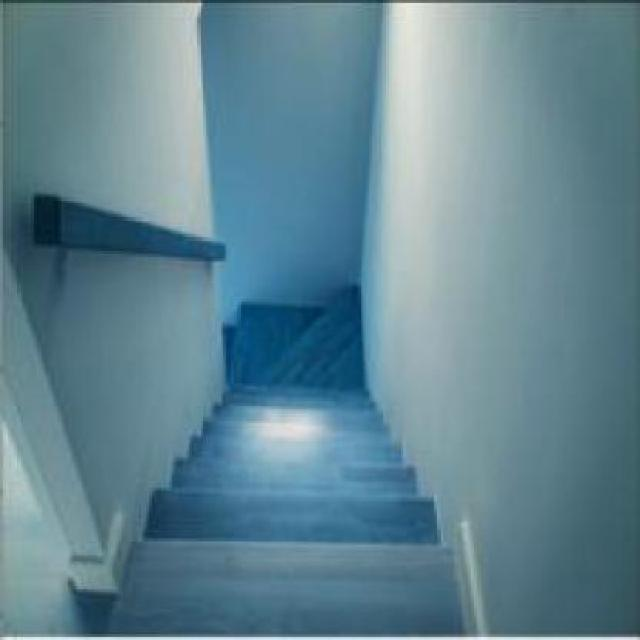stair: (138, 383, 443, 569)
